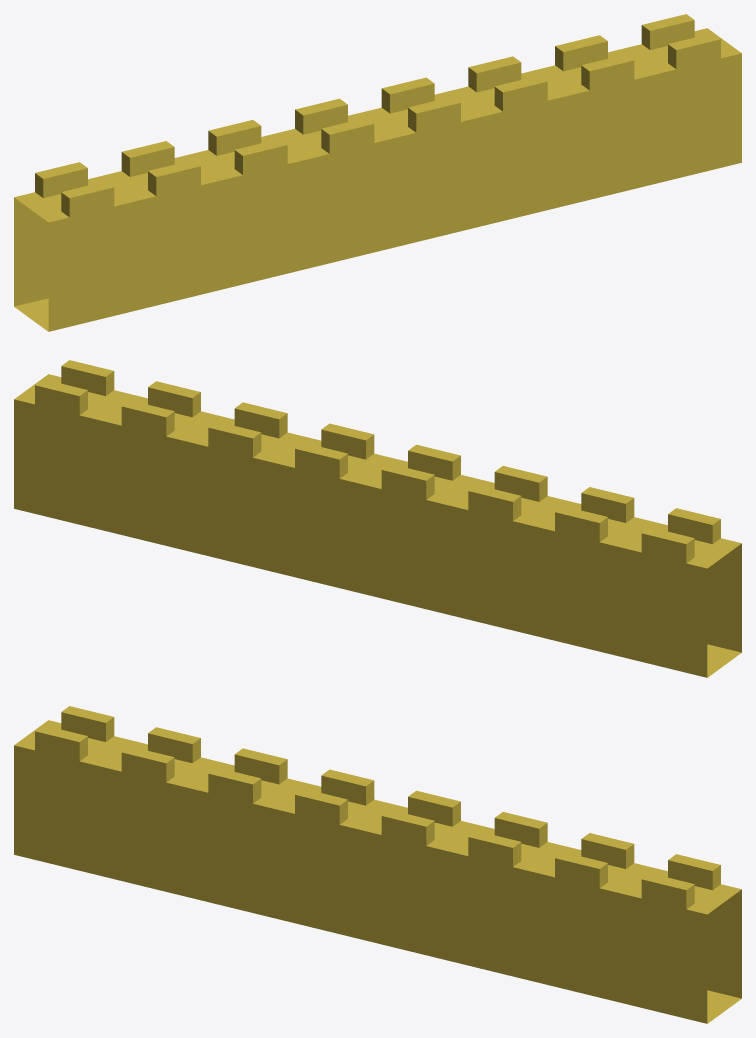
File: wall_lvl_1.fbx
3 views of the same model, one above another, from view 1: azimuth 30°, elevation 25°; view 2: azimuth 150°, elevation 25°; view 3: azimuth 330°, elevation 25° (orthographic).
Visible parts, largest first — view 1: low poly; view 2: low poly; view 3: low poly.
Boxes of the visible parts, bbox=[...] form: low poly: bbox=[14, 14, 741, 331]; low poly: bbox=[14, 360, 741, 677]; low poly: bbox=[14, 706, 741, 1023].
Bounding box in the file's own units: 13.27 × 2.35 × 1.15.
